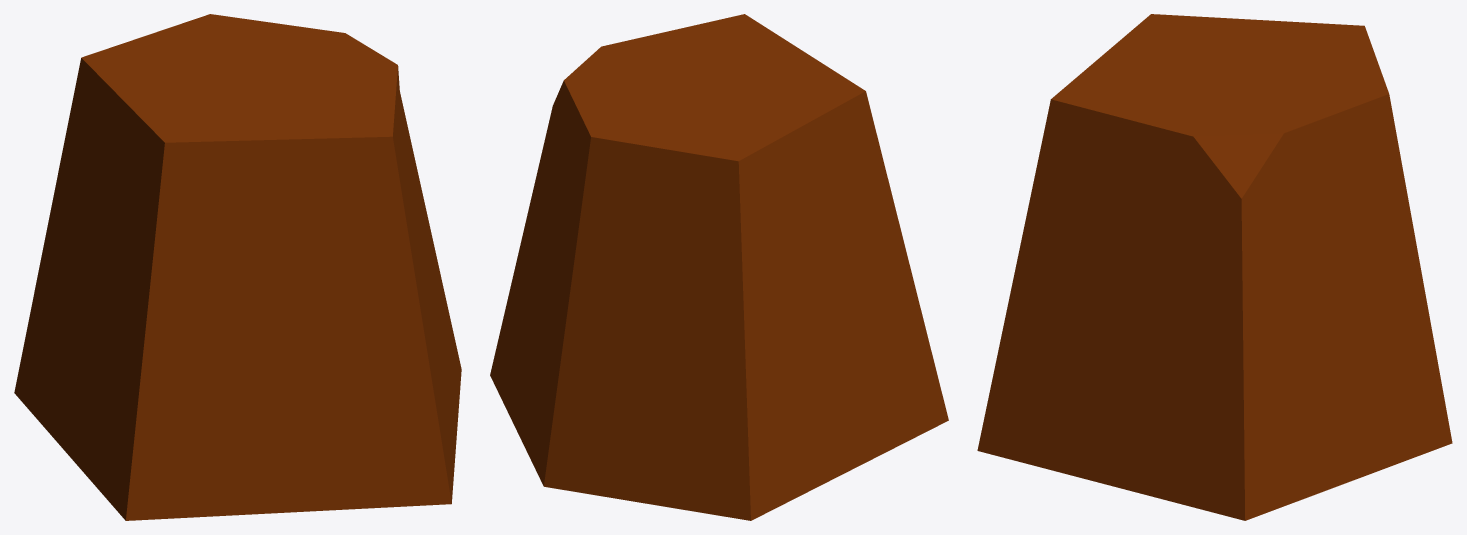
File: stone_013.fbx
3 views of the same model, side by side, from view 1: azimuth 30°, elevation 25°; view 2: azimuth 150°, elevation 25°; view 3: azimuth 270°, elevation 25° (orthographic). The views are drawn at different scales.
Parts seen in each view (by area): view 1: stone.013; view 2: stone.013; view 3: stone.013.
Part boxes in pixels (left/top/right/bottom): stone.013: left=14, top=14, right=461, bottom=520; stone.013: left=490, top=14, right=948, bottom=520; stone.013: left=977, top=14, right=1452, bottom=520.
Bounding box in the file's own units: 48.14 × 39.03 × 49.27.
